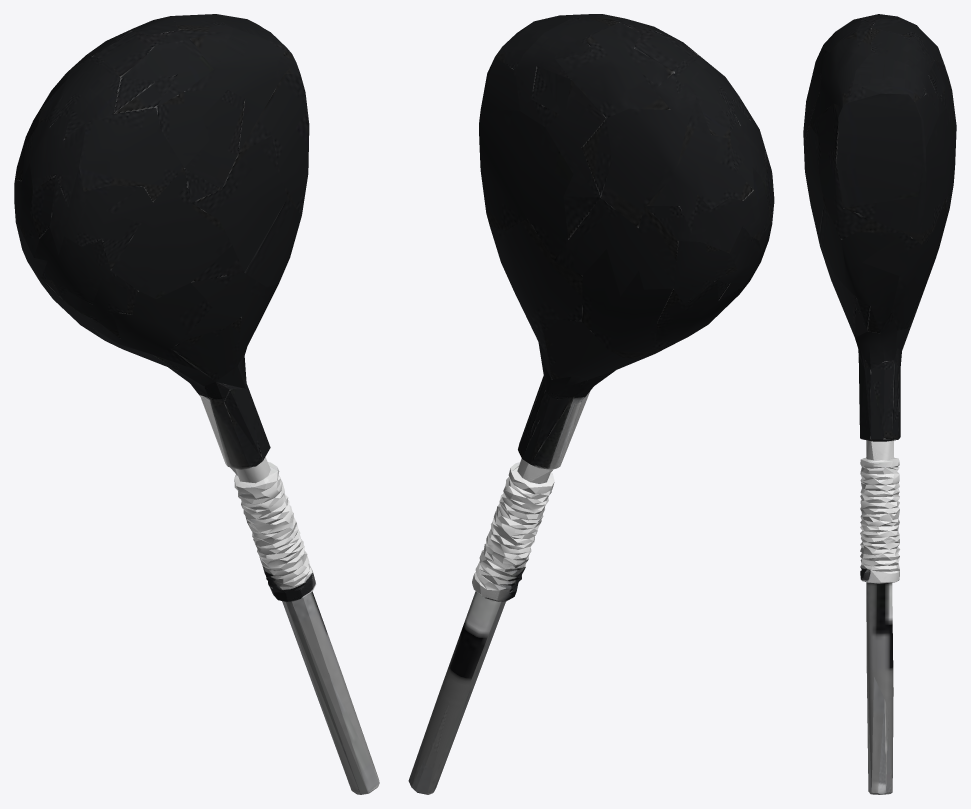
The model's file is golf_club.glb.
3 renders of one model, left to right at view 1: azimuth 30°, elevation 25°; view 2: azimuth 150°, elevation 25°; view 3: azimuth 270°, elevation 25°, orthographic. The views are drawn at different scales.
Size of the model in its own units: 0.8653 by 1.9 by 0.3837.
Materials: 1 (1 with a texture image).
